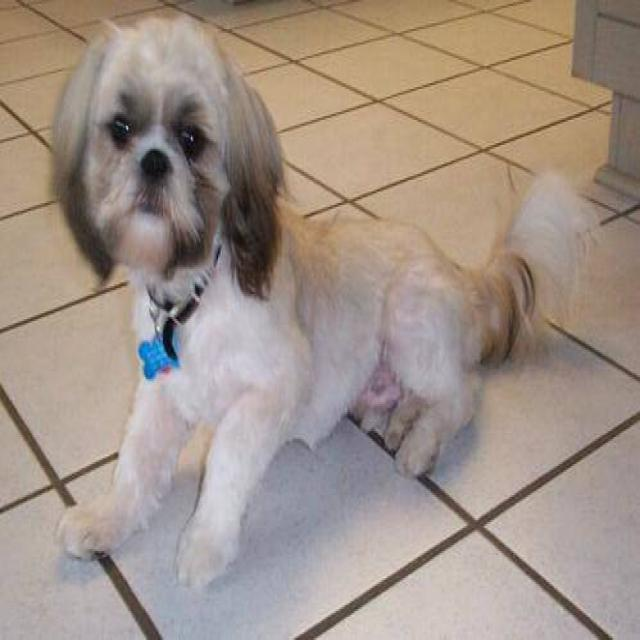dog: (50, 9, 602, 590)
